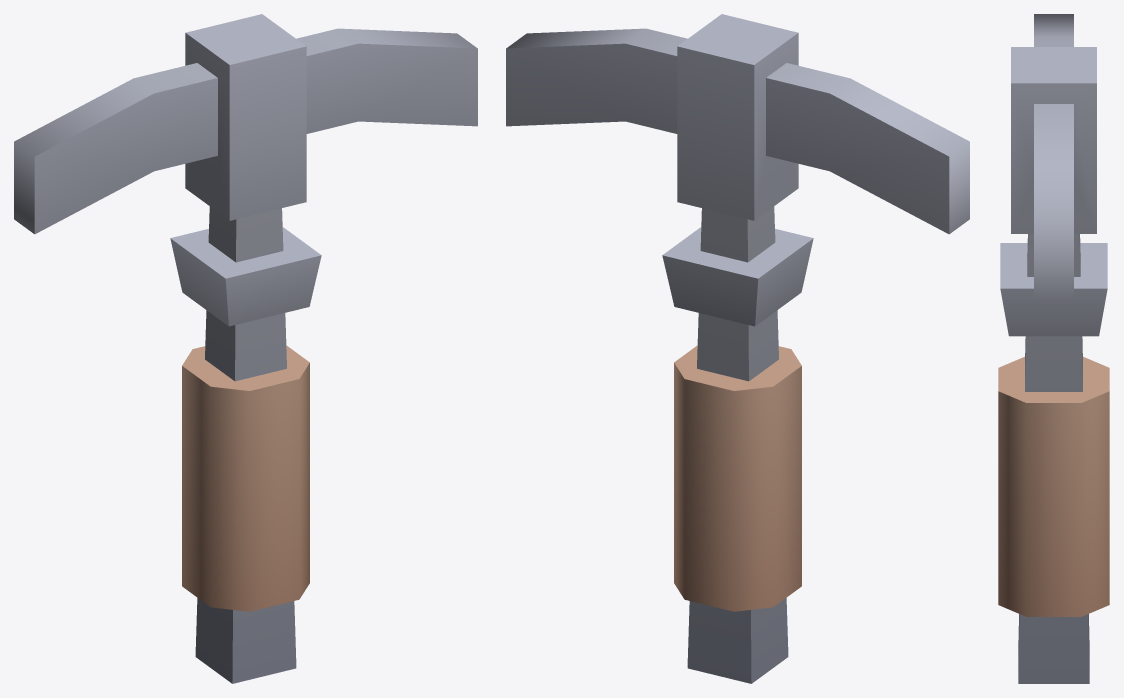
File: tool-pickaxe-upgraded.glb
3 renders of one model, left to right at view 1: azimuth 30°, elevation 25°; view 2: azimuth 150°, elevation 25°; view 3: azimuth 270°, elevation 25°, orthographic. The views are drawn at different scales.
Visible parts, largest first — view 1: tool-pickaxe-upgraded; view 2: tool-pickaxe-upgraded; view 3: tool-pickaxe-upgraded.
Part boxes in pixels (box(x1,y1,x2,y2)): tool-pickaxe-upgraded: box(14, 14, 477, 683); tool-pickaxe-upgraded: box(506, 14, 969, 683); tool-pickaxe-upgraded: box(998, 14, 1109, 683).
Size of the model in its own units: 0.1786 by 0.24 by 0.04.
